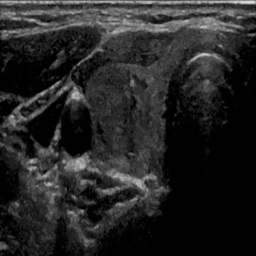mass: (86, 70, 135, 150)
